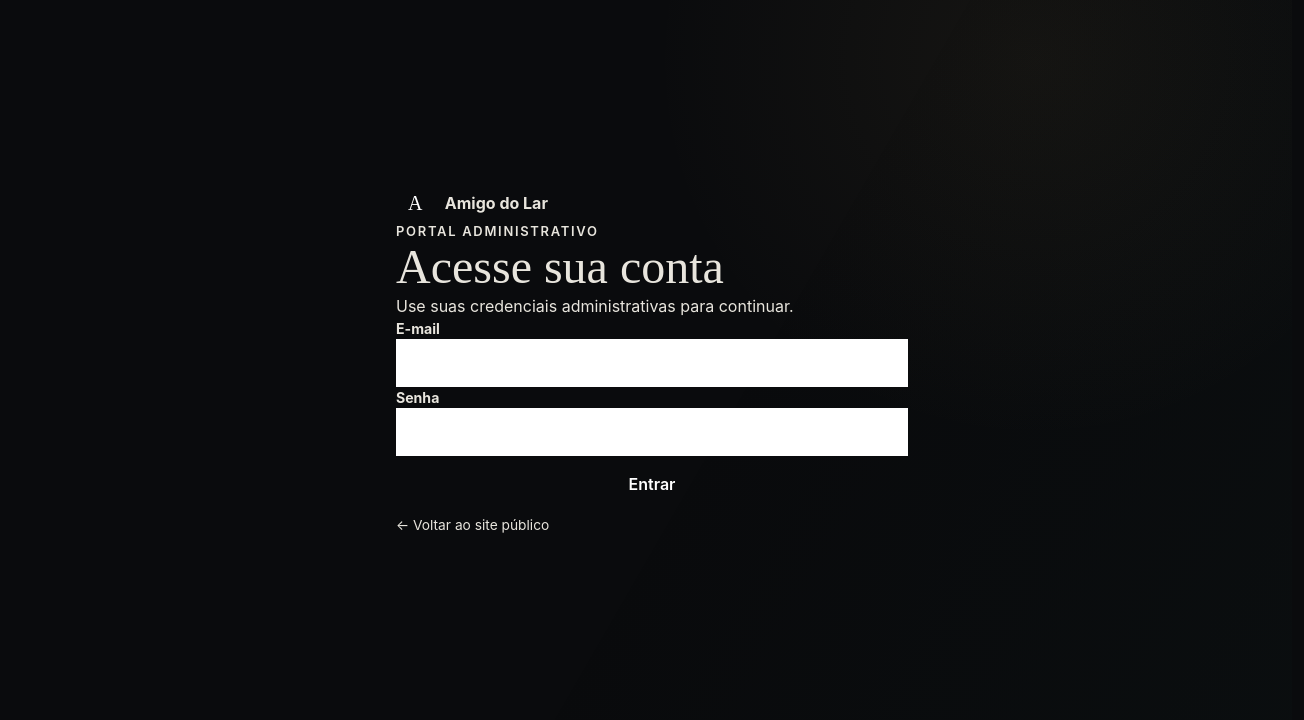
Test: autenticação administrativa › retorna à rota administrativa completa solicitada após o login
Expected: the heading "Acesse sua conta" is shown, 396,240 -> 724,293
Type "admin@example.com" into the field labelled "E-mail" at (652, 363), box 396,339 -> 908,387
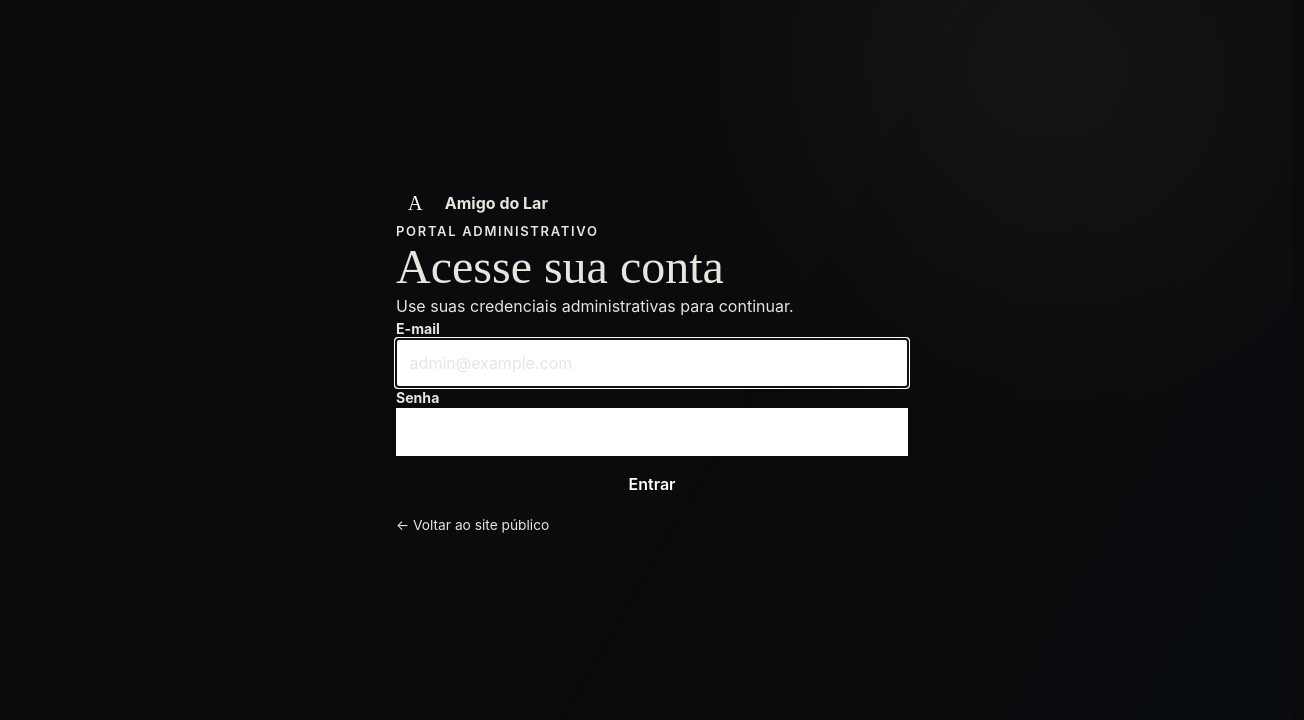
Type "secure-password" into the password field labelled "Senha" at (652, 432), box 396,408 -> 908,456
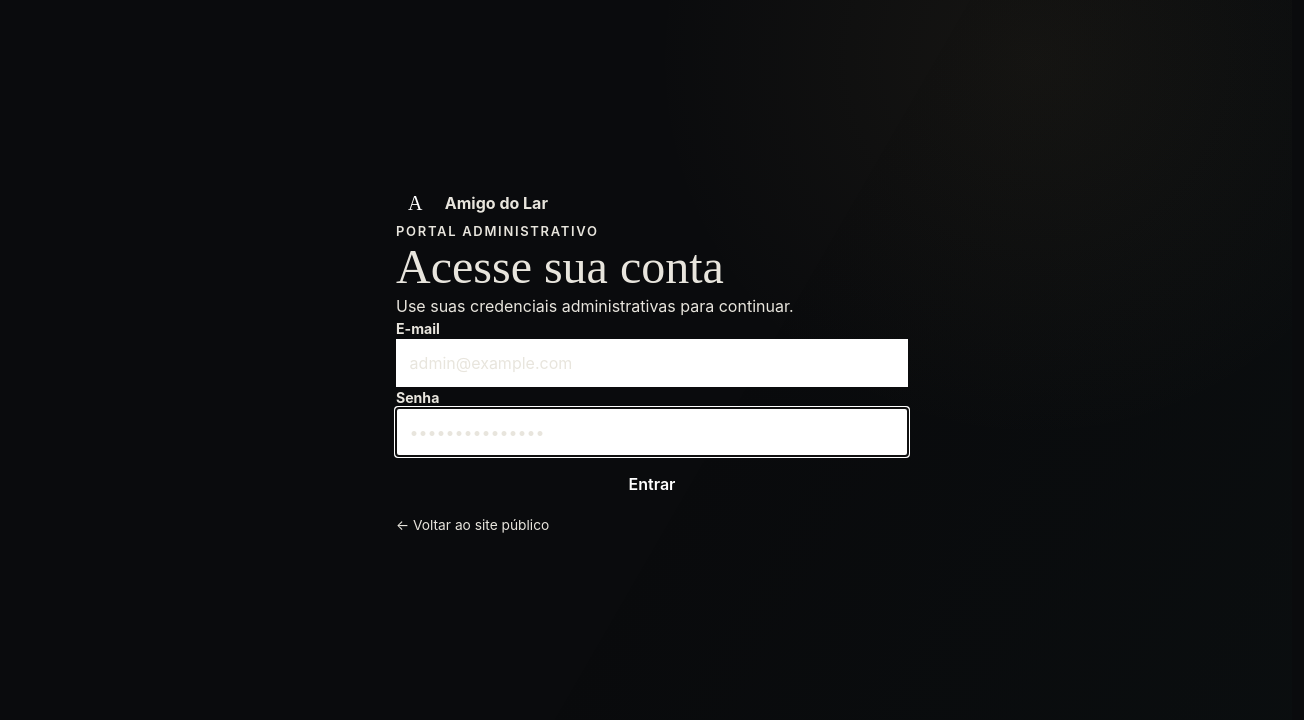
Click the button "Entrar" at (652, 484), box 396,456 -> 908,512
(page scrolled)
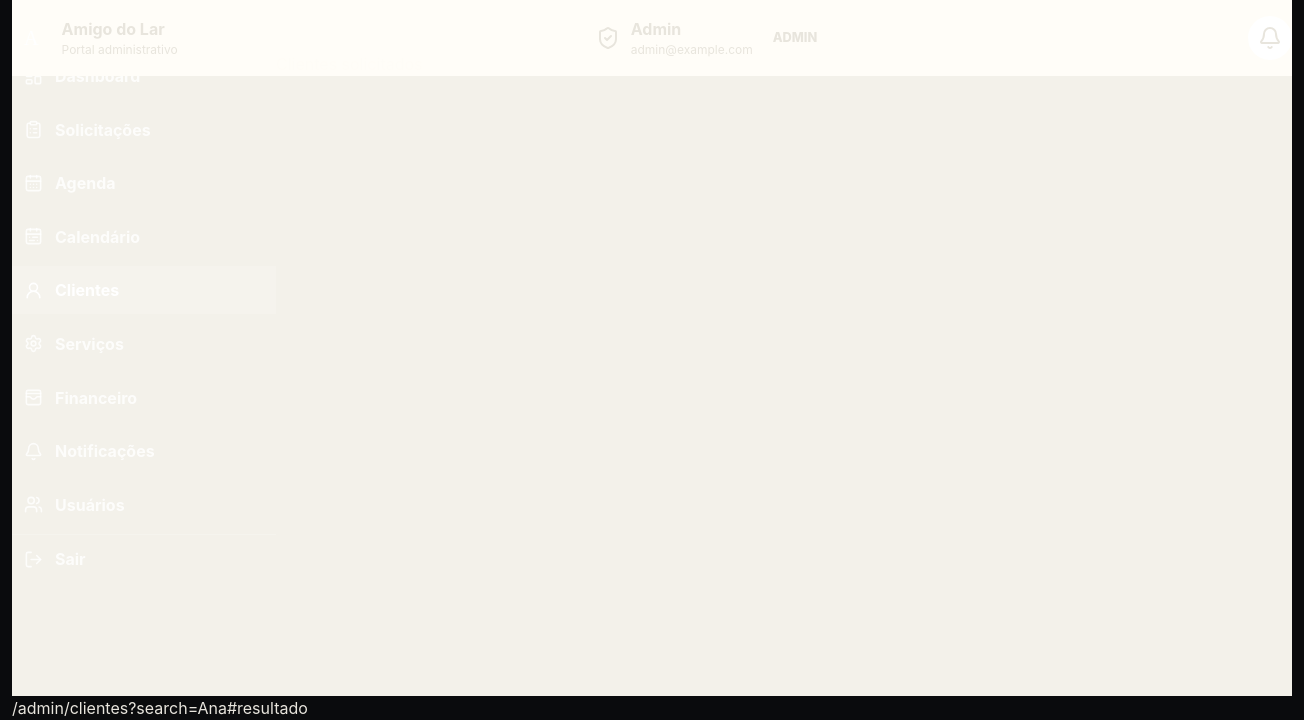
Expected: the text named "Rota atual" reads "/admin/clientes?search=Ana#resultado", 12,698 -> 308,718
